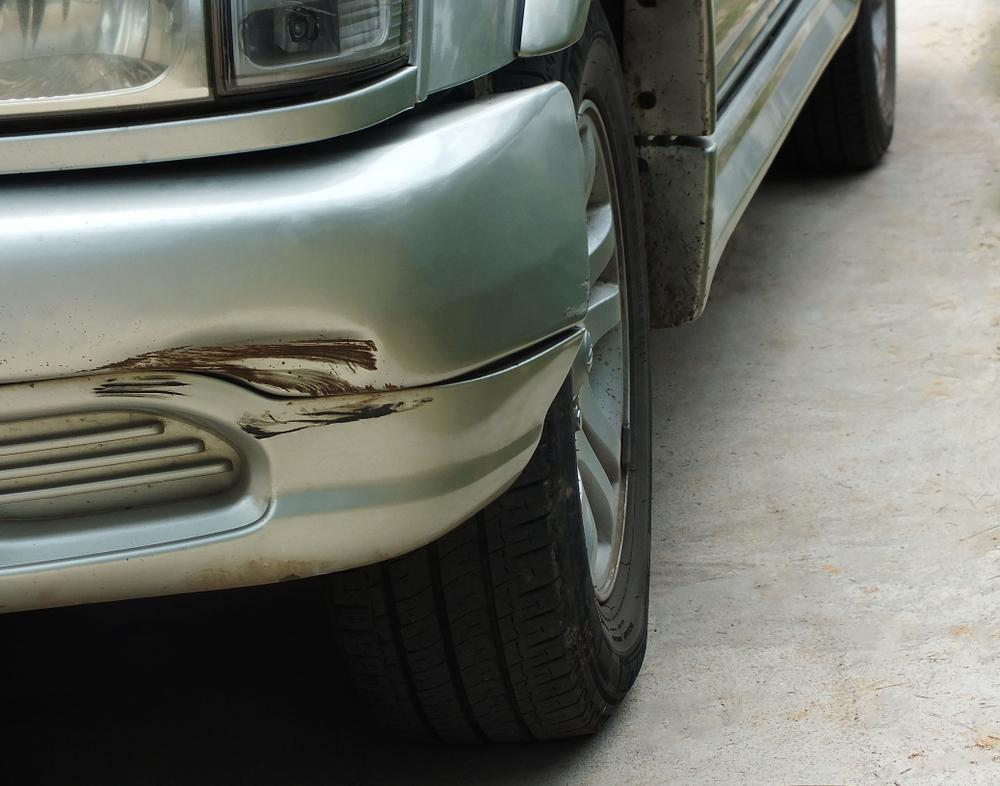dent: (139, 312, 394, 396)
scratch: (236, 392, 441, 443), (77, 351, 195, 405)
